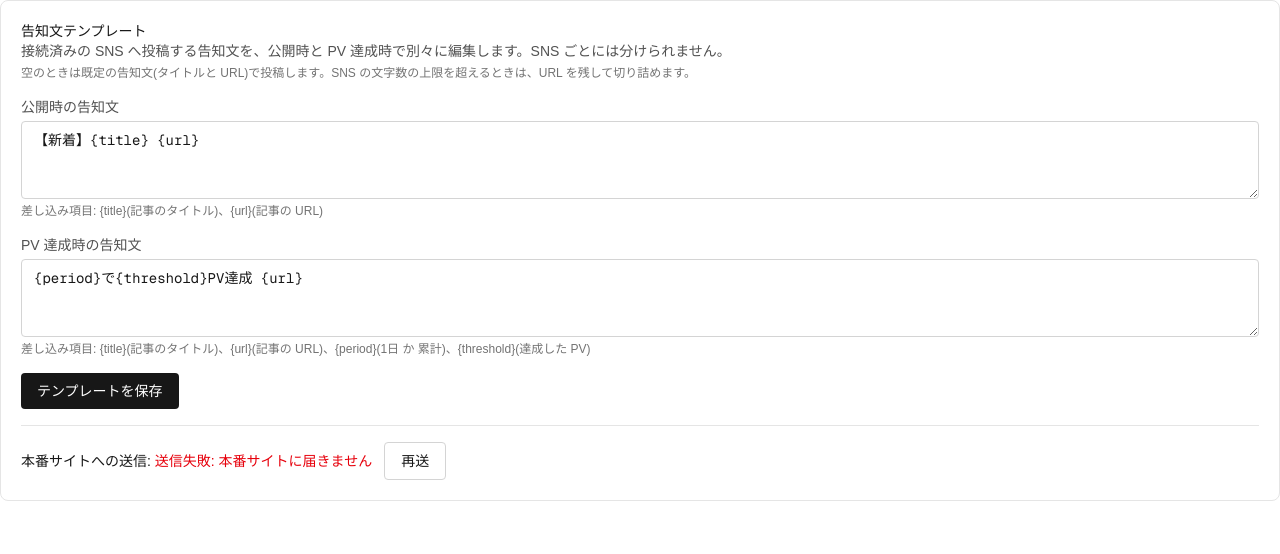
Scenario: ProjectSnsTemplatesSection › 再送がまた失敗したら理由を示す
Click the button "再送" at point(415, 461), box [384, 442, 446, 480]
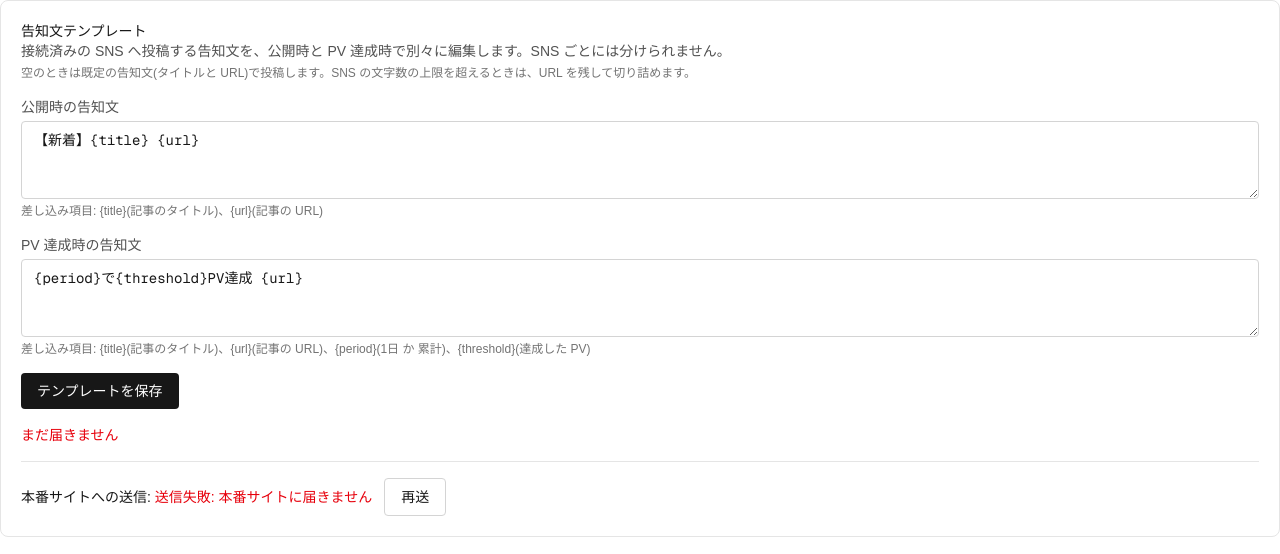
Result: the text "まだ届きません" is shown at [21, 427, 119, 443]
